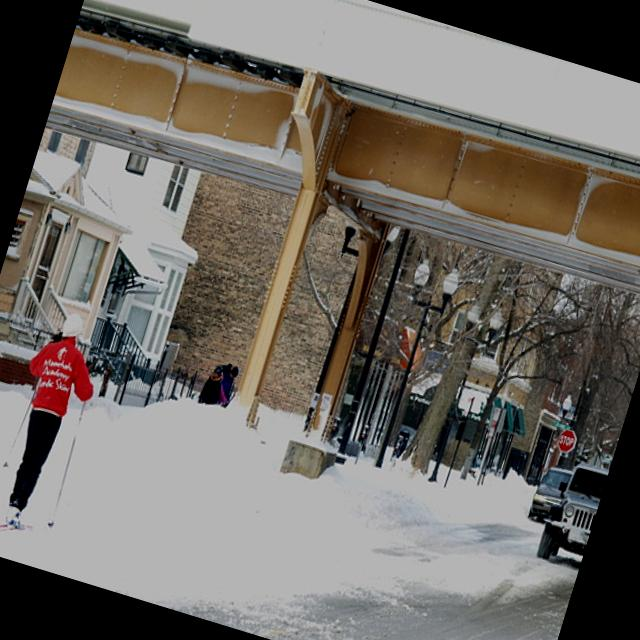Vehicle: (532, 458, 608, 570), (524, 460, 576, 526)
